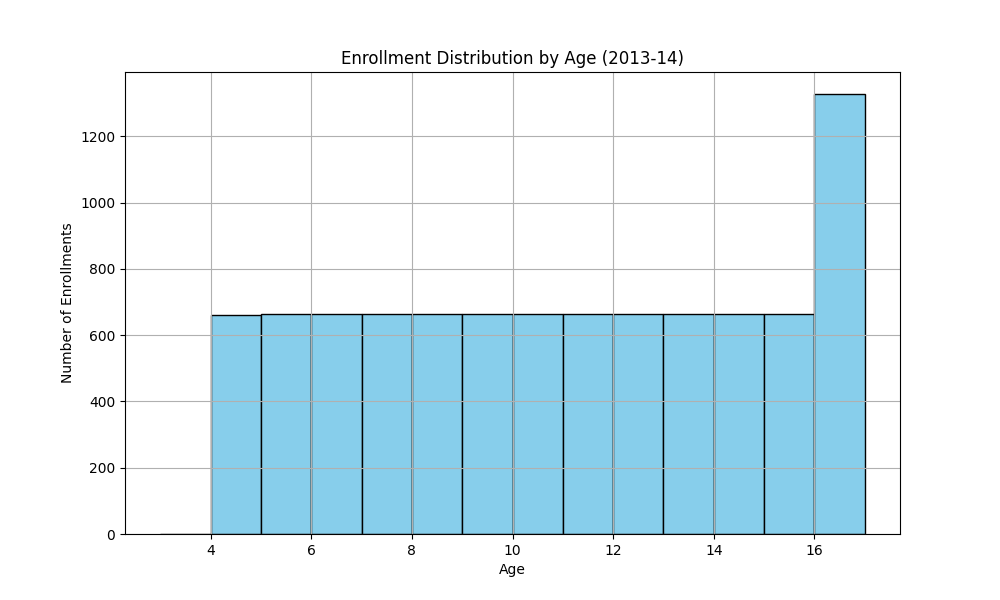

The dashboard page shown, as its layout file describes it:
{"tool":"tableau","page":{"name":"Dashboard 1","canvas":[1000,1000],"units":"permille","ordinal":0},"visuals":[{"type":"worksheet","title":"Sheet 2","mark":"Bar","rows":["count"],"cols":["date","date"],"box":[1.8,480.7,991,499.4]}]}

Visuals, with their boxes on the dashboard's canvas, which has no fixed pixel size, in thousandths of its width and height (x1, y1, x2, y2). These are canvas units, not pixel positions in the 1000x600 screenshot, which may show the page scaled, cropped or inside an application window:
"Sheet 2" worksheet (Bar marks): rect(2, 481, 993, 980)
